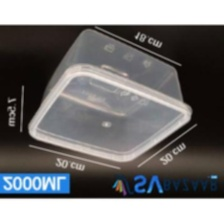plastic_box: (19, 25, 197, 168)
